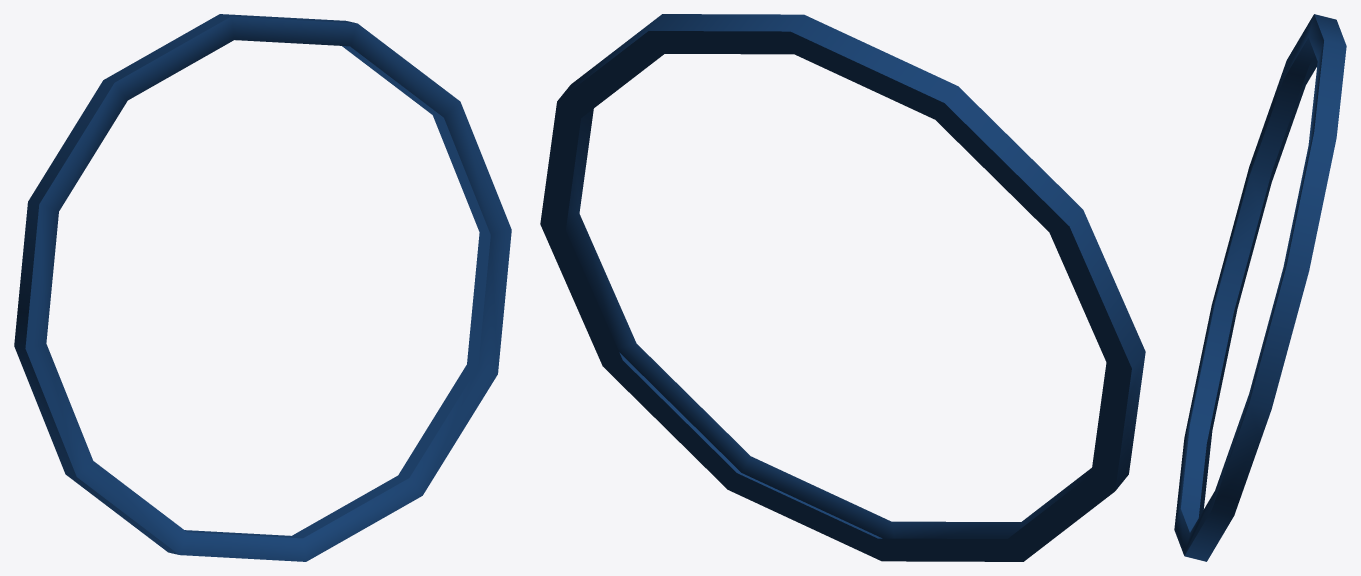
The model's file is original-22.obj.
3 renders of one model, left to right at view 1: azimuth 30°, elevation 25°; view 2: azimuth 150°, elevation 25°; view 3: azimuth 270°, elevation 25°, orthographic. The views are drawn at different scales.
Parts seen in each view (by area): view 1: #ID314; view 2: #ID314; view 3: #ID314.
Part boxes in pixels (x1,y1,x2,y2): #ID314: (14,14,511,561); #ID314: (540,14,1145,561); #ID314: (1174,14,1346,561).
Size of the model in its own units: 0.0839 by 0.0818 by 0.0258.
